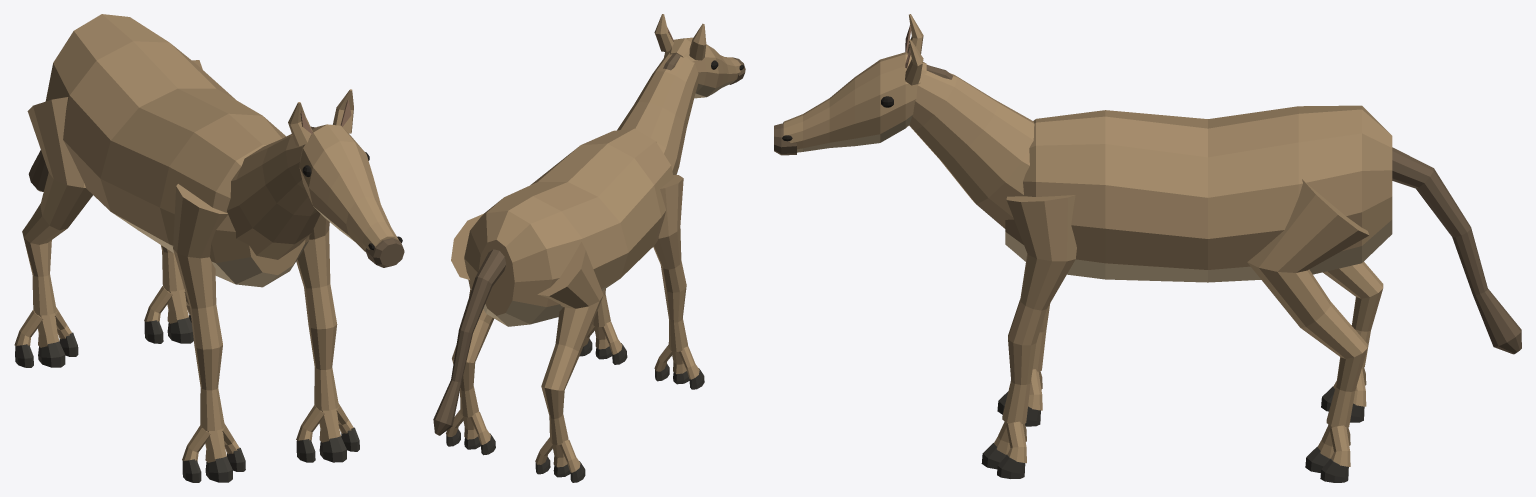
3 renders of one model, left to right at view 1: azimuth 30°, elevation 25°; view 2: azimuth 150°, elevation 25°; view 3: azimuth 270°, elevation 25°, orthographic. The views are drawn at different scales.
Parts seen in each view (by area): view 1: trunk_chest_and_rump, modest_sloping_neck, left_forelimb, short_equine_head_and_deep_cheek, left_hindlimb, right_forelimb, left_hindfoot_three_distinct_toes, right_forefoot_three_distinct_toes, left_forefoot_three_distinct_toes, right_hindfoot_three_distinct_toes, tapered_soft_muzzle, right_hindlimb (+3 smaller); view 2: trunk_chest_and_rump, left_hindlimb, modest_sloping_neck, left_forelimb, modest_tapered_tail, right_hindlimb, short_equine_head_and_deep_cheek, left_hindfoot_three_distinct_toes, left_forefoot_three_distinct_toes, right_hindfoot_three_distinct_toes, right_forefoot_three_distinct_toes, left_pointed_pinna (+2 smaller); view 3: trunk_chest_and_rump, modest_sloping_neck, right_hindlimb, right_forelimb, short_equine_head_and_deep_cheek, modest_tapered_tail, left_hindlimb, right_hindfoot_three_distinct_toes, right_forefoot_three_distinct_toes, left_forefoot_three_distinct_toes, left_hindfoot_three_distinct_toes.
Part boxes in pixels (left/top/right/bottom): trunk_chest_and_rump: left=45, top=14, right=309, bottom=287; modest_sloping_neck: left=227, top=134, right=320, bottom=259; left_forelimb: left=173, top=184, right=228, bottom=430; short_equine_head_and_deep_cheek: left=299, top=124, right=399, bottom=251; left_hindlimb: left=22, top=97, right=92, bottom=315; right_forelimb: left=296, top=214, right=338, bottom=410; left_hindfoot_three_distinct_toes: left=14, top=307, right=78, bottom=367; right_forefoot_three_distinct_toes: left=296, top=403, right=359, bottom=462; left_forefoot_three_distinct_toes: left=182, top=423, right=245, bottom=482; right_hindfoot_three_distinct_toes: left=144, top=286, right=193, bottom=343; tapered_soft_muzzle: left=365, top=238, right=404, bottom=267; right_hindlimb: left=161, top=60, right=202, bottom=291; trunk_chest_and_rump: left=464, top=128, right=673, bottom=326; left_hindlimb: left=537, top=242, right=603, bottom=445; modest_sloping_neck: left=617, top=53, right=698, bottom=174; left_forelimb: left=653, top=175, right=687, bottom=351; modest_tapered_tail: left=433, top=249, right=506, bottom=435; right_hindlimb: left=451, top=213, right=494, bottom=417; short_equine_head_and_deep_cheek: left=664, top=37, right=740, bottom=98; left_hindfoot_three_distinct_toes: left=535, top=437, right=585, bottom=482; left_forefoot_three_distinct_toes: left=654, top=345, right=704, bottom=389; right_hindfoot_three_distinct_toes: left=446, top=410, right=495, bottom=455; right_forefoot_three_distinct_toes: left=579, top=321, right=627, bottom=364; left_pointed_pinna: left=689, top=23, right=706, bottom=60; trunk_chest_and_rump: left=1005, top=105, right=1392, bottom=282; modest_sloping_neck: left=909, top=64, right=1034, bottom=228; right_hindlimb: left=1247, top=179, right=1369, bottom=427; right_forelimb: left=1002, top=195, right=1076, bottom=424; short_equine_head_and_deep_cheek: left=783, top=52, right=926, bottom=152; modest_tapered_tail: left=1392, top=147, right=1521, bottom=354; left_hindlimb: left=1323, top=262, right=1383, bottom=367; right_hindfoot_three_distinct_toes: left=1305, top=424, right=1350, bottom=482; right_forefoot_three_distinct_toes: left=981, top=421, right=1026, bottom=478; left_forefoot_three_distinct_toes: left=997, top=369, right=1042, bottom=426; left_hindfoot_three_distinct_toes: left=1321, top=367, right=1366, bottom=422.
Size of the model in its own units: 0.347 by 0.755 by 1.24.
